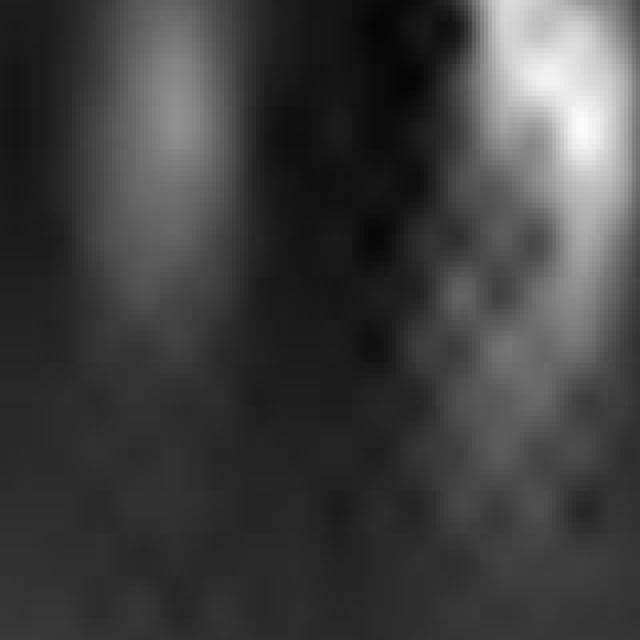person: (437, 1, 640, 444), (57, 1, 253, 412)
